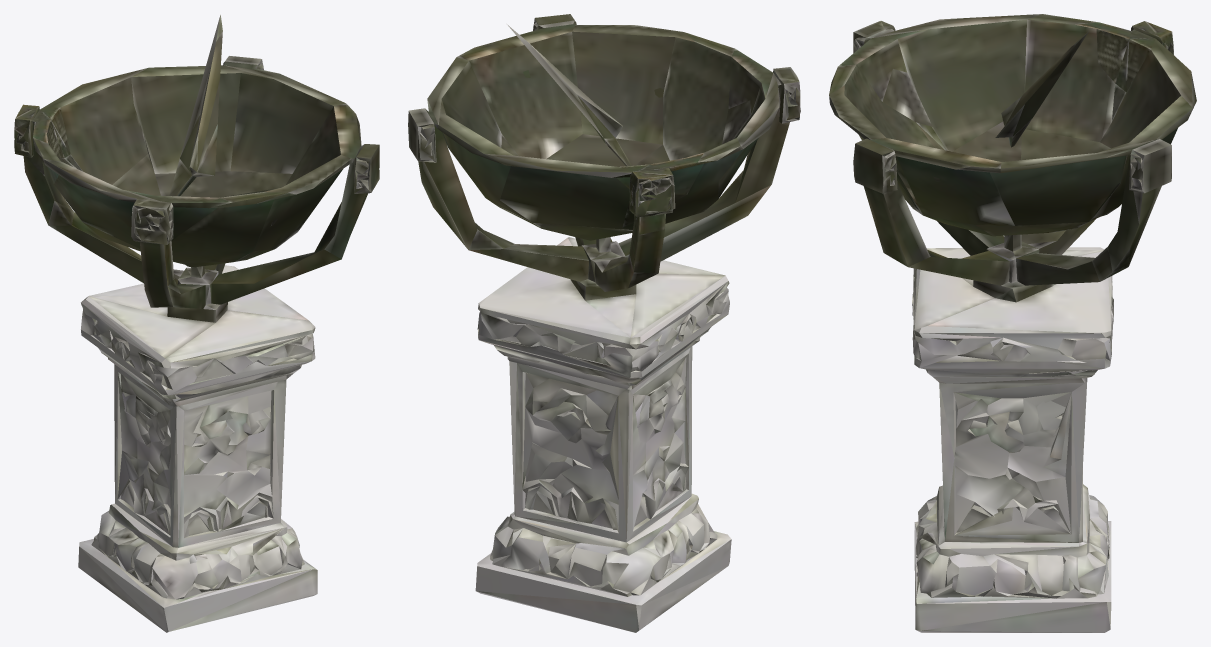
Rendered from sundial.glb.
The picture shows the model from 3 angles, left to right: view 1: azimuth 30°, elevation 25°; view 2: azimuth 150°, elevation 25°; view 3: azimuth 270°, elevation 25°; orthographic projection. The views are drawn at different scales.
Size of the model in its own units: 1.06 by 1.9 by 1.07.
Materials: 1 (1 with a texture image).
